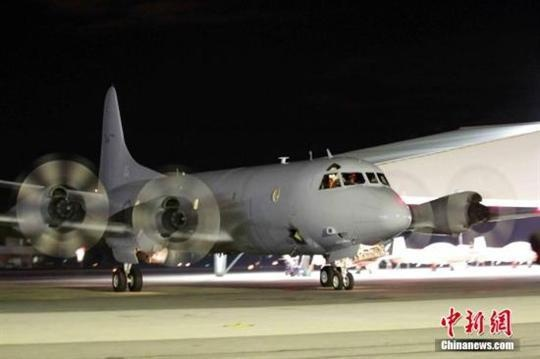airplane: (4, 84, 536, 291)
